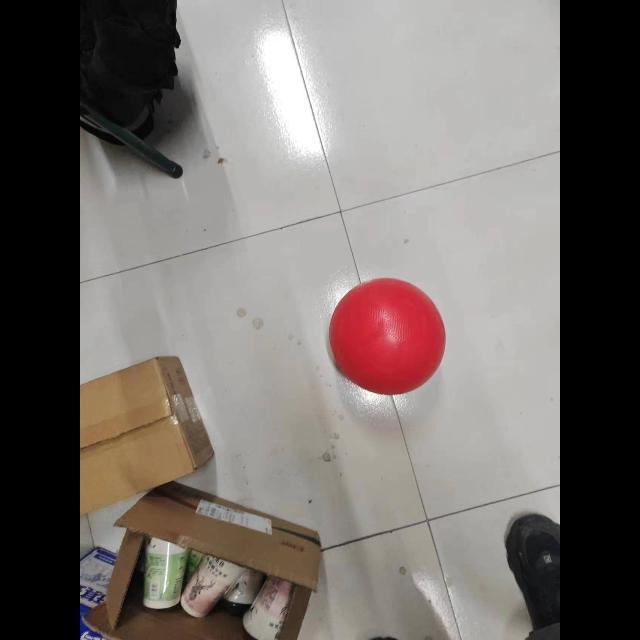R: (323, 267, 455, 401)
